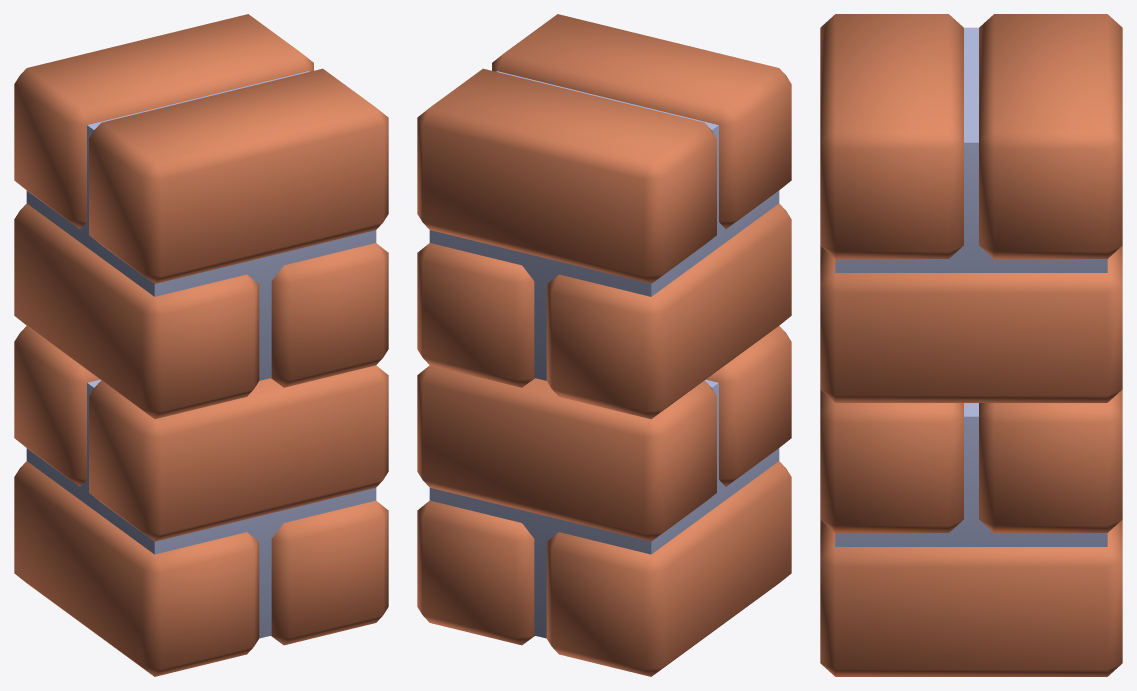
Rendered from 2brick.fbx.
3 renders of one model, left to right at view 1: azimuth 30°, elevation 25°; view 2: azimuth 150°, elevation 25°; view 3: azimuth 270°, elevation 25°, orthographic. The views are drawn at different scales.
Visible parts, largest first — view 1: brick__1_, brick; view 2: brick__1_, brick; view 3: brick__1_, brick.
Boxes of the visible parts, x1=… form: brick__1_: x1=14, y1=14, x2=388, y2=419; brick: x1=14, y1=326, x2=388, y2=676; brick__1_: x1=417, y1=14, x2=791, y2=419; brick: x1=417, y1=326, x2=791, y2=676; brick__1_: x1=820, y1=14, x2=1122, y2=402; brick: x1=820, y1=389, x2=1122, y2=676.
Size of the model in its own units: 50 by 100 by 50.
1 material, 1 textured.
